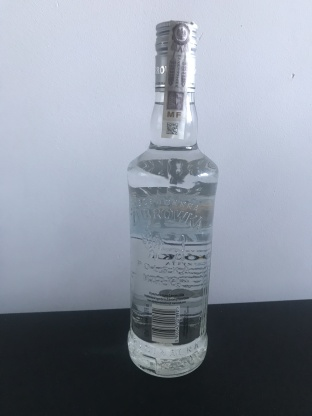nakretka: (152, 16, 200, 97)
